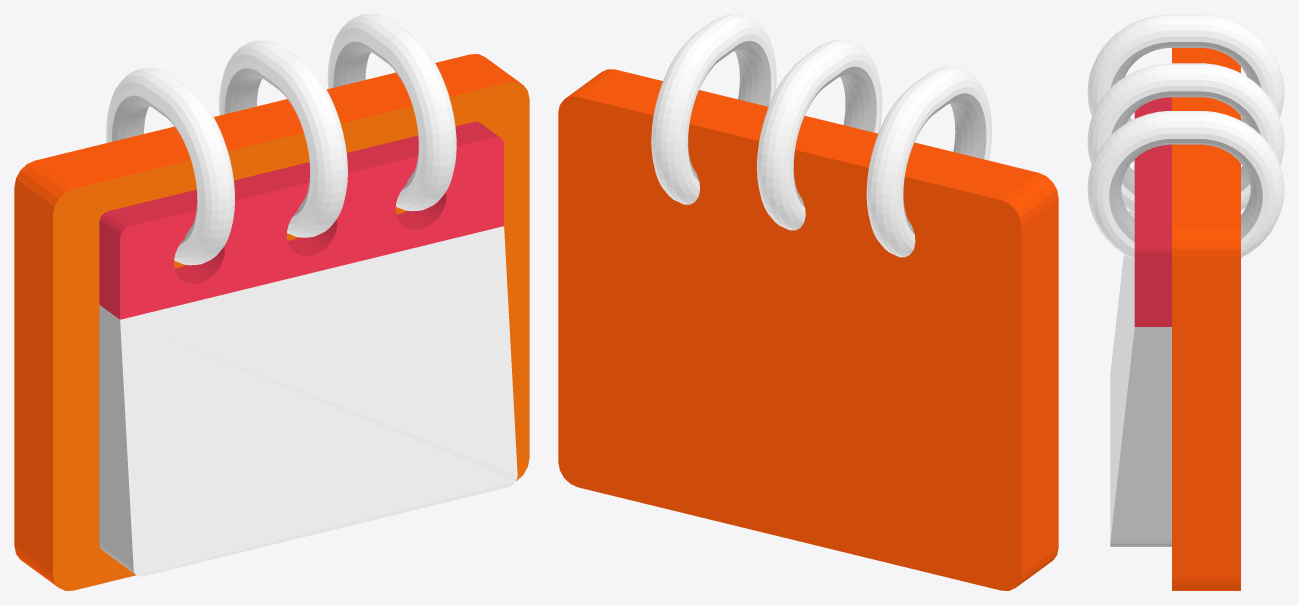
File: simple_stylized_cartoon_style_calendar.gltf
3 renders of one model, left to right at view 1: azimuth 30°, elevation 25°; view 2: azimuth 150°, elevation 25°; view 3: azimuth 270°, elevation 25°, orthographic. The views are drawn at different scales.
Parts seen in each view (by area): view 1: Cube; view 2: Cube; view 3: Cube.
Boxes of the visible parts, left/top/right/bottom form: Cube: left=14, top=14, right=529, bottom=590; Cube: left=558, top=14, right=1058, bottom=590; Cube: left=1087, top=14, right=1284, bottom=590.
Bounding box in the file's own units: 2.48 × 2.38 × 0.9924.
1 material, 1 textured.
